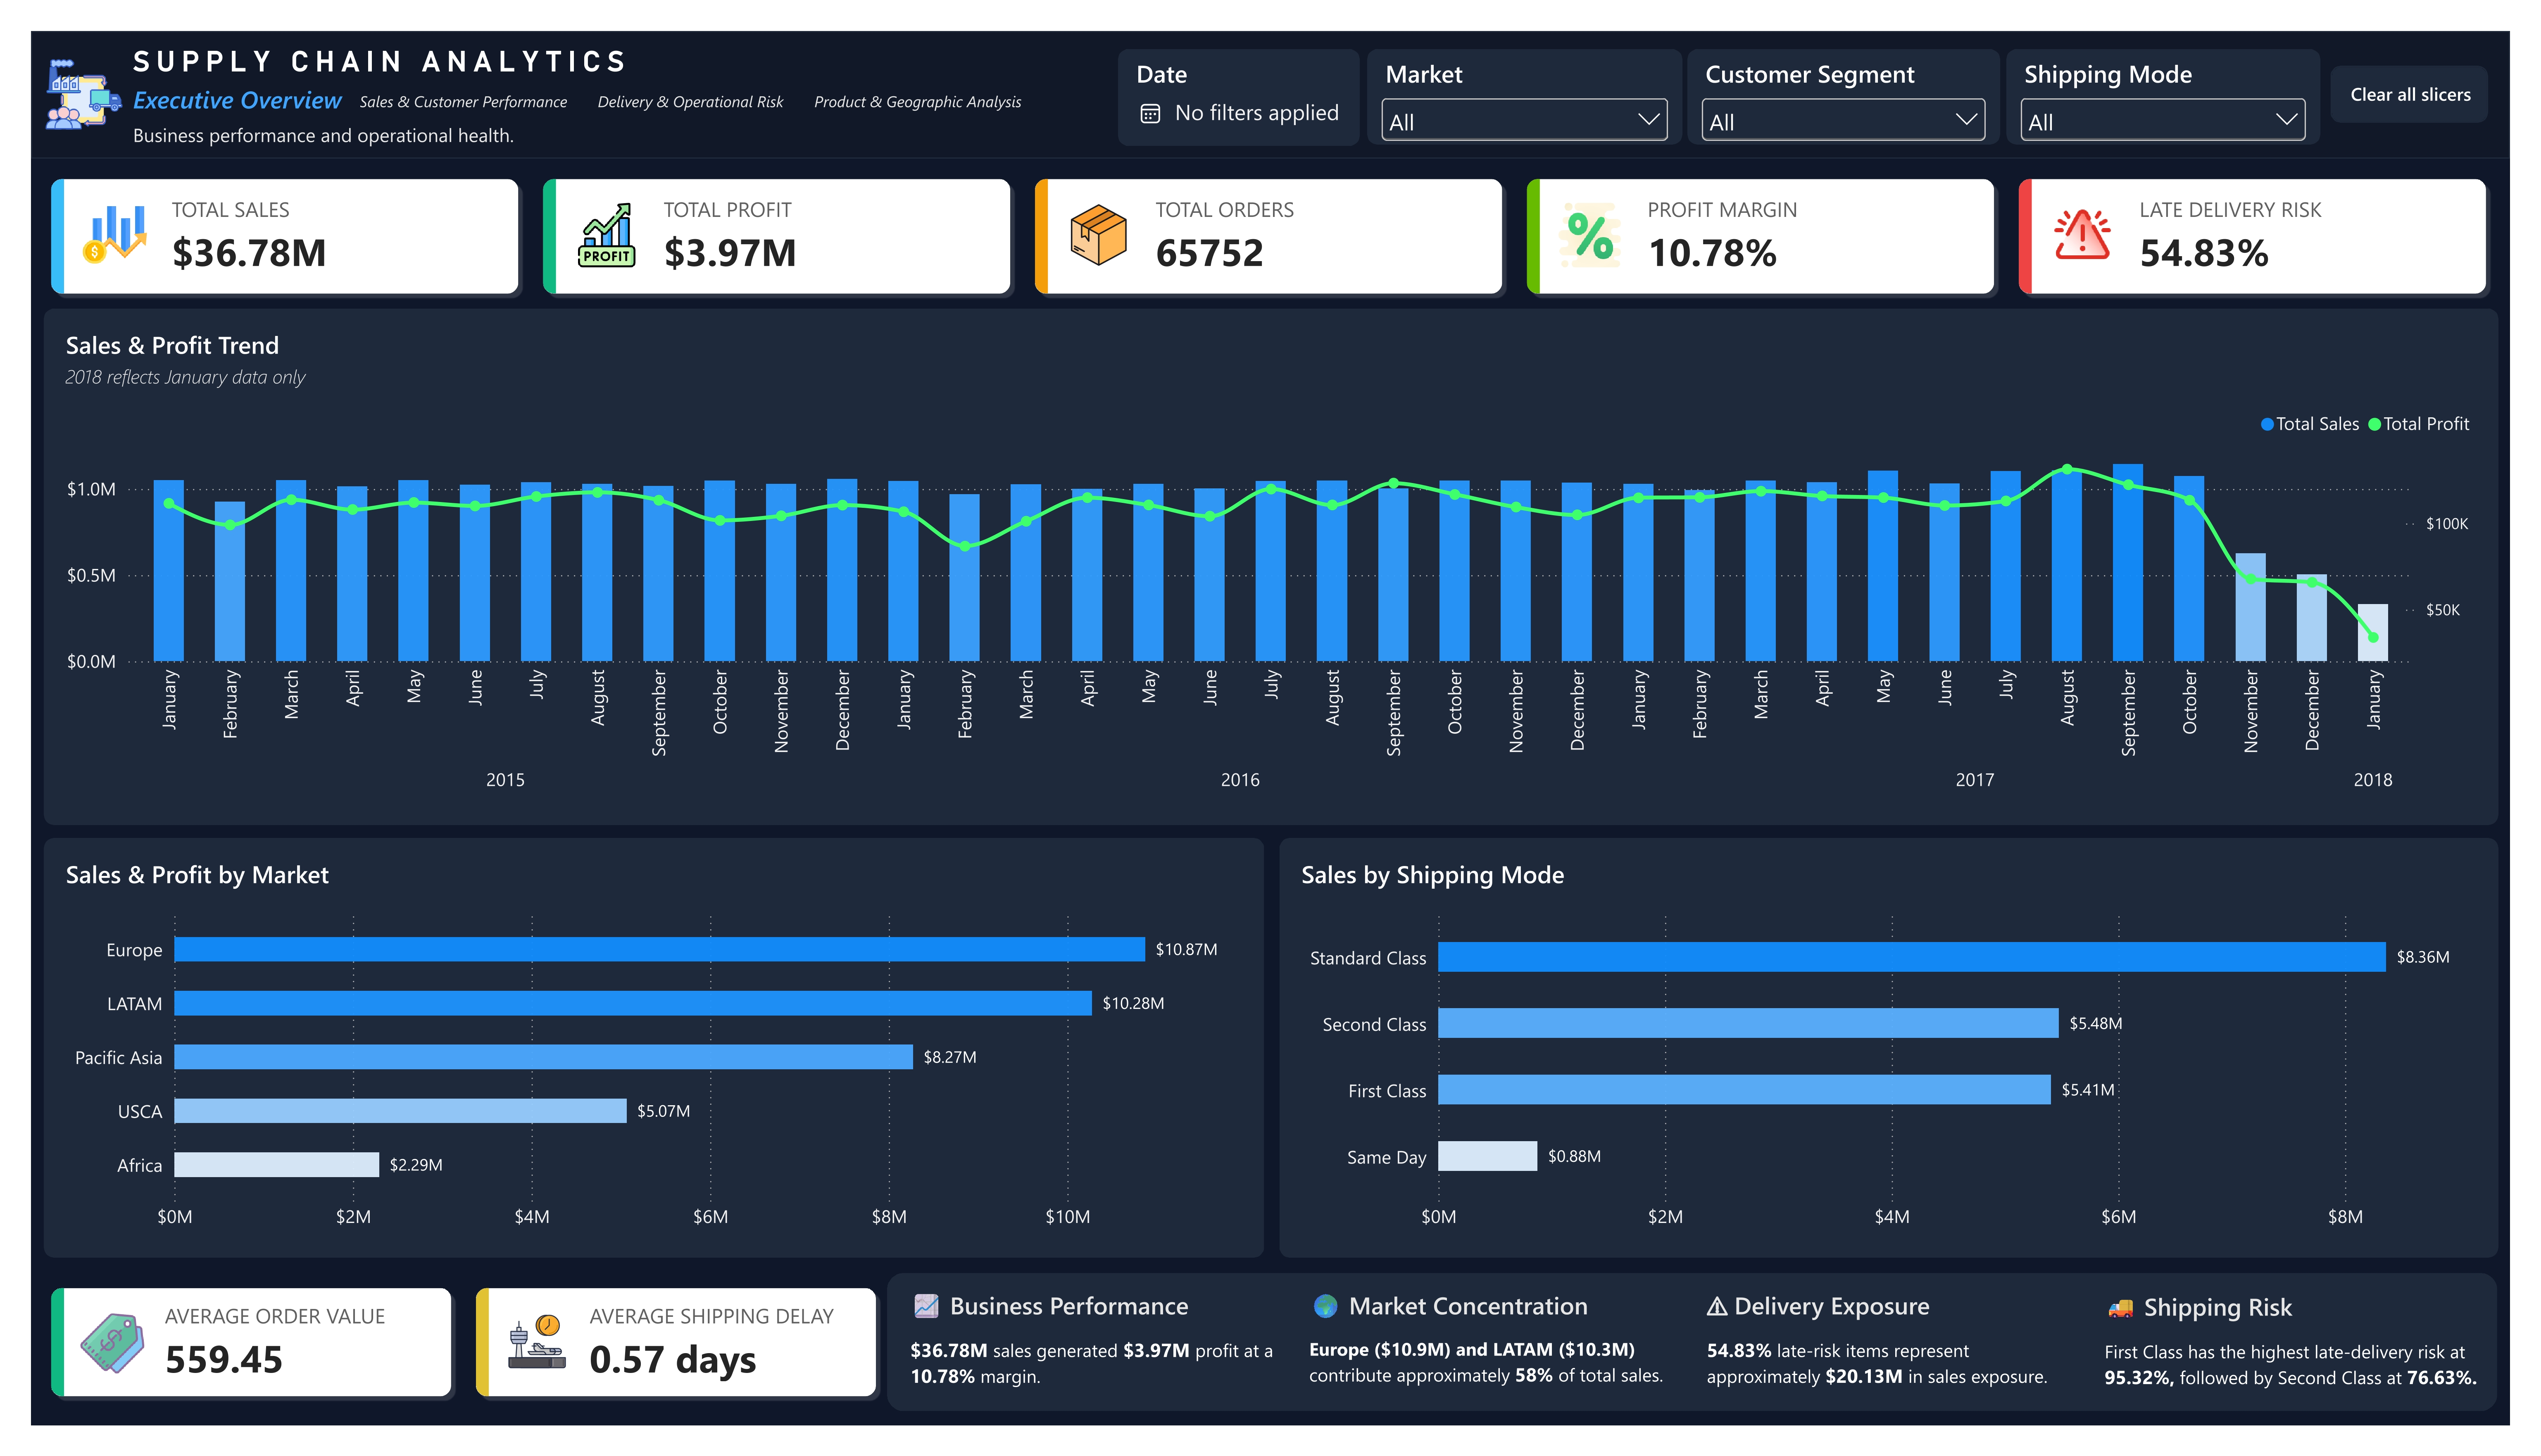

Layout of this report page (visuals, bound fields, positions):
{"tool":"powerbi","page":{"name":"Executive Overview","canvas":[1920,1080],"ordinal":0},"visuals":[{"type":"shape","box":[662.9,961.8,1247.3,106.9],"z":0,"group":"g2"},{"type":"cardVisual","fields":{"Data":["_Measures.Average Order Value","_Measures.Average Shipping Delay"]},"box":[10,968,650.4,95],"z":0},{"type":"shape","box":[0,0,1919.6,99.4],"z":1000,"group":"g3"},{"type":"clusteredBarChart","title":"Sales by Shipping Mode","fields":{"Category":["dim_shipping.shipping_mode"],"Y":["_Measures.Late Risk Sales"]},"box":[967.1,625.3,944.2,325],"z":1000},{"type":"group","id":"g1","title":"Filter pane","box":[841.8,13.7,1060.9,75],"z":1125,"group":"g3"},{"type":"textbox","title":"🚚 Shipping Risk","box":[1596.1,964.7,314.1,101.7],"z":1125,"group":"g2"},{"type":"textbox","title":"S U P P L Y   C H A I N   A N A L Y T I C S","box":[74.3,5.7,400,90],"z":1250,"group":"g3"},{"type":"textbox","title":"📈 Business Performance","box":[585.7,-0.3,310,100],"z":2000},{"type":"textbox","title":"⚠ Delivery Exposure","box":[1287.6,963.8,303.9,101.9],"z":2250,"group":"g2"},{"type":"textbox","title":"📈 Business Performance","box":[576.7,0,310,100],"z":3000},{"type":"clusteredBarChart","title":"Sales & Profit by Market","fields":{"Category":["dim_location.market"],"Y":["_Measures.Total Sales"]},"box":[10.2,625,945.1,325.2],"z":4000},{"type":"textbox","title":"🌍 Market Concentration","box":[980.3,963.8,307.2,103.5],"z":4500,"group":"g2"},{"type":"lineClusteredColumnComboChart","title":"Sales & Profit Trend","fields":{"Category":["dim_date.full_date.Variation.Date Hierarchy.Year","dim_date.full_date.Variation.Date Hierarchy.Month"],"Y":["_Measures.Total Sales"],"Y2":["_Measures.Total Profit"]},"box":[10.2,215.1,1900.4,399.7],"z":5000},{"type":"actionButton","box":[1780.5,26.8,122.2,44.4],"z":5500,"group":"g1"},{"type":"slicer","title":"Date","fields":{"Values":["dim_date.full_date"]},"box":[841.8,13.7,187.2,75],"z":6000,"group":"g1"},{"type":"pageNavigator","box":[251.2,40,520,30],"z":6000,"group":"g3"},{"type":"cardVisual","fields":{"Data":["_Measures.Total Sales","_Measures.Total Profit","_Measures.Total Orders","_Measures.Profit Margin %","_Measures.Late Delivery Risk %"]},"box":[10.2,109,1900,100],"z":6000},{"type":"group","id":"g2","title":"Insights","box":[662.9,961.8,1247.3,106.9],"z":6500},{"type":"group","id":"g3","title":"Top Bar","box":[0,0,1919.6,99.4],"z":7000},{"type":"slicer","title":"Location","fields":{"Values":["dim_location.market"]},"box":[1034.9,13.7,243.4,73.7],"z":7000,"group":"g1"},{"type":"image","box":[10.6,18.9,60,60],"z":7500,"group":"g3"},{"type":"slicer","title":"Customer","fields":{"Values":["dim_customer.customer_segment"]},"box":[1283,13.7,242.2,73.7],"z":9000,"group":"g1"},{"type":"textbox","title":"📈 Business Performance","box":[670.8,964.1,308.7,102],"z":9000,"group":"g2"},{"type":"slicer","title":"Shipping Mode","fields":{"Values":["dim_shipping.shipping_mode"]},"box":[1530,13.7,242.9,74.4],"z":10000,"group":"g1"}]}

Visuals, with their boxes on the page's 1920x1080 design canvas (x1, y1, x2, y2). These are canvas units, not pixel positions in the 2541x1456 screenshot, which may show the page scaled, cropped or inside an application window:
shape: pyautogui.locateOnScreen(663, 962, 1910, 1069)
cardVisual - _Measures.Average Order Value x _Measures.Average Shipping Delay: pyautogui.locateOnScreen(10, 968, 660, 1063)
shape: pyautogui.locateOnScreen(0, 0, 1920, 99)
"Sales by Shipping Mode" clusteredBarChart: pyautogui.locateOnScreen(967, 625, 1911, 950)
"Filter pane" group: pyautogui.locateOnScreen(842, 14, 1903, 89)
"🚚 Shipping Risk" textbox: pyautogui.locateOnScreen(1596, 965, 1910, 1066)
"S U P P L Y   C H A I N   A N A L Y T I C S" textbox: pyautogui.locateOnScreen(74, 6, 474, 96)
"📈 Business Performance" textbox: pyautogui.locateOnScreen(586, 0, 896, 100)
"⚠ Delivery Exposure" textbox: pyautogui.locateOnScreen(1288, 964, 1592, 1066)
"📈 Business Performance" textbox: pyautogui.locateOnScreen(577, 0, 887, 100)
"Sales & Profit by Market" clusteredBarChart: pyautogui.locateOnScreen(10, 625, 955, 950)
"🌍 Market Concentration" textbox: pyautogui.locateOnScreen(980, 964, 1288, 1067)
"Sales & Profit Trend" lineClusteredColumnComboChart: pyautogui.locateOnScreen(10, 215, 1911, 615)
actionButton: pyautogui.locateOnScreen(1780, 27, 1903, 71)
"Date" slicer: pyautogui.locateOnScreen(842, 14, 1029, 89)
pageNavigator: pyautogui.locateOnScreen(251, 40, 771, 70)
cardVisual - _Measures.Total Sales x _Measures.Total Profit: pyautogui.locateOnScreen(10, 109, 1910, 209)
"Insights" group: pyautogui.locateOnScreen(663, 962, 1910, 1069)
"Top Bar" group: pyautogui.locateOnScreen(0, 0, 1920, 99)
"Location" slicer: pyautogui.locateOnScreen(1035, 14, 1278, 87)
image: pyautogui.locateOnScreen(11, 19, 71, 79)
"Customer" slicer: pyautogui.locateOnScreen(1283, 14, 1525, 87)
"📈 Business Performance" textbox: pyautogui.locateOnScreen(671, 964, 980, 1066)
"Shipping Mode" slicer: pyautogui.locateOnScreen(1530, 14, 1773, 88)
